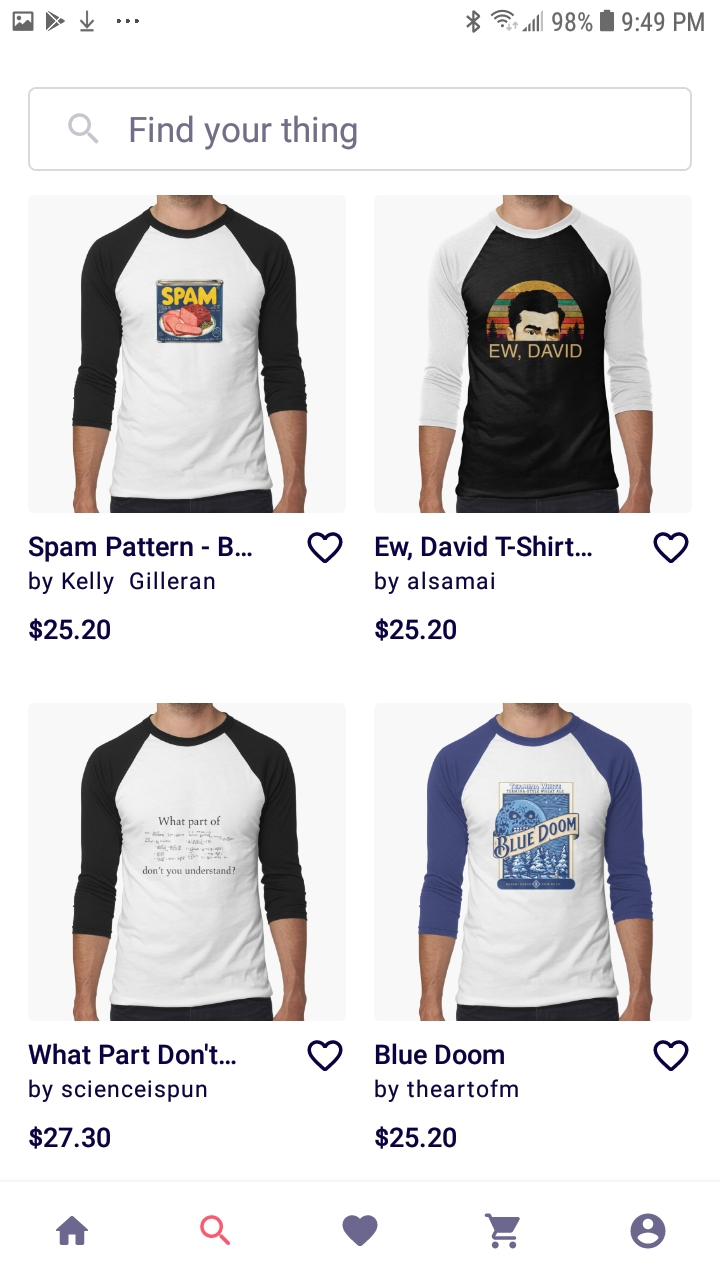EditText: (28, 87, 693, 172)
Icon: (484, 1212, 520, 1249), (630, 1213, 666, 1249), (652, 1039, 689, 1072), (653, 531, 689, 564), (342, 1214, 379, 1246), (307, 1040, 344, 1072), (307, 532, 344, 564), (56, 1215, 90, 1245), (200, 1215, 231, 1245), (69, 114, 99, 144)
Image: (374, 703, 691, 1021), (29, 704, 345, 1022), (375, 195, 691, 513), (30, 195, 346, 513)
Text: (28, 535, 253, 595), (375, 535, 592, 595), (30, 1042, 237, 1103), (374, 1043, 519, 1103), (130, 115, 359, 151), (30, 617, 111, 642), (375, 1125, 457, 1149), (375, 618, 457, 642), (30, 1126, 111, 1149)
UpperTaskBar: (1, 1, 720, 34)
